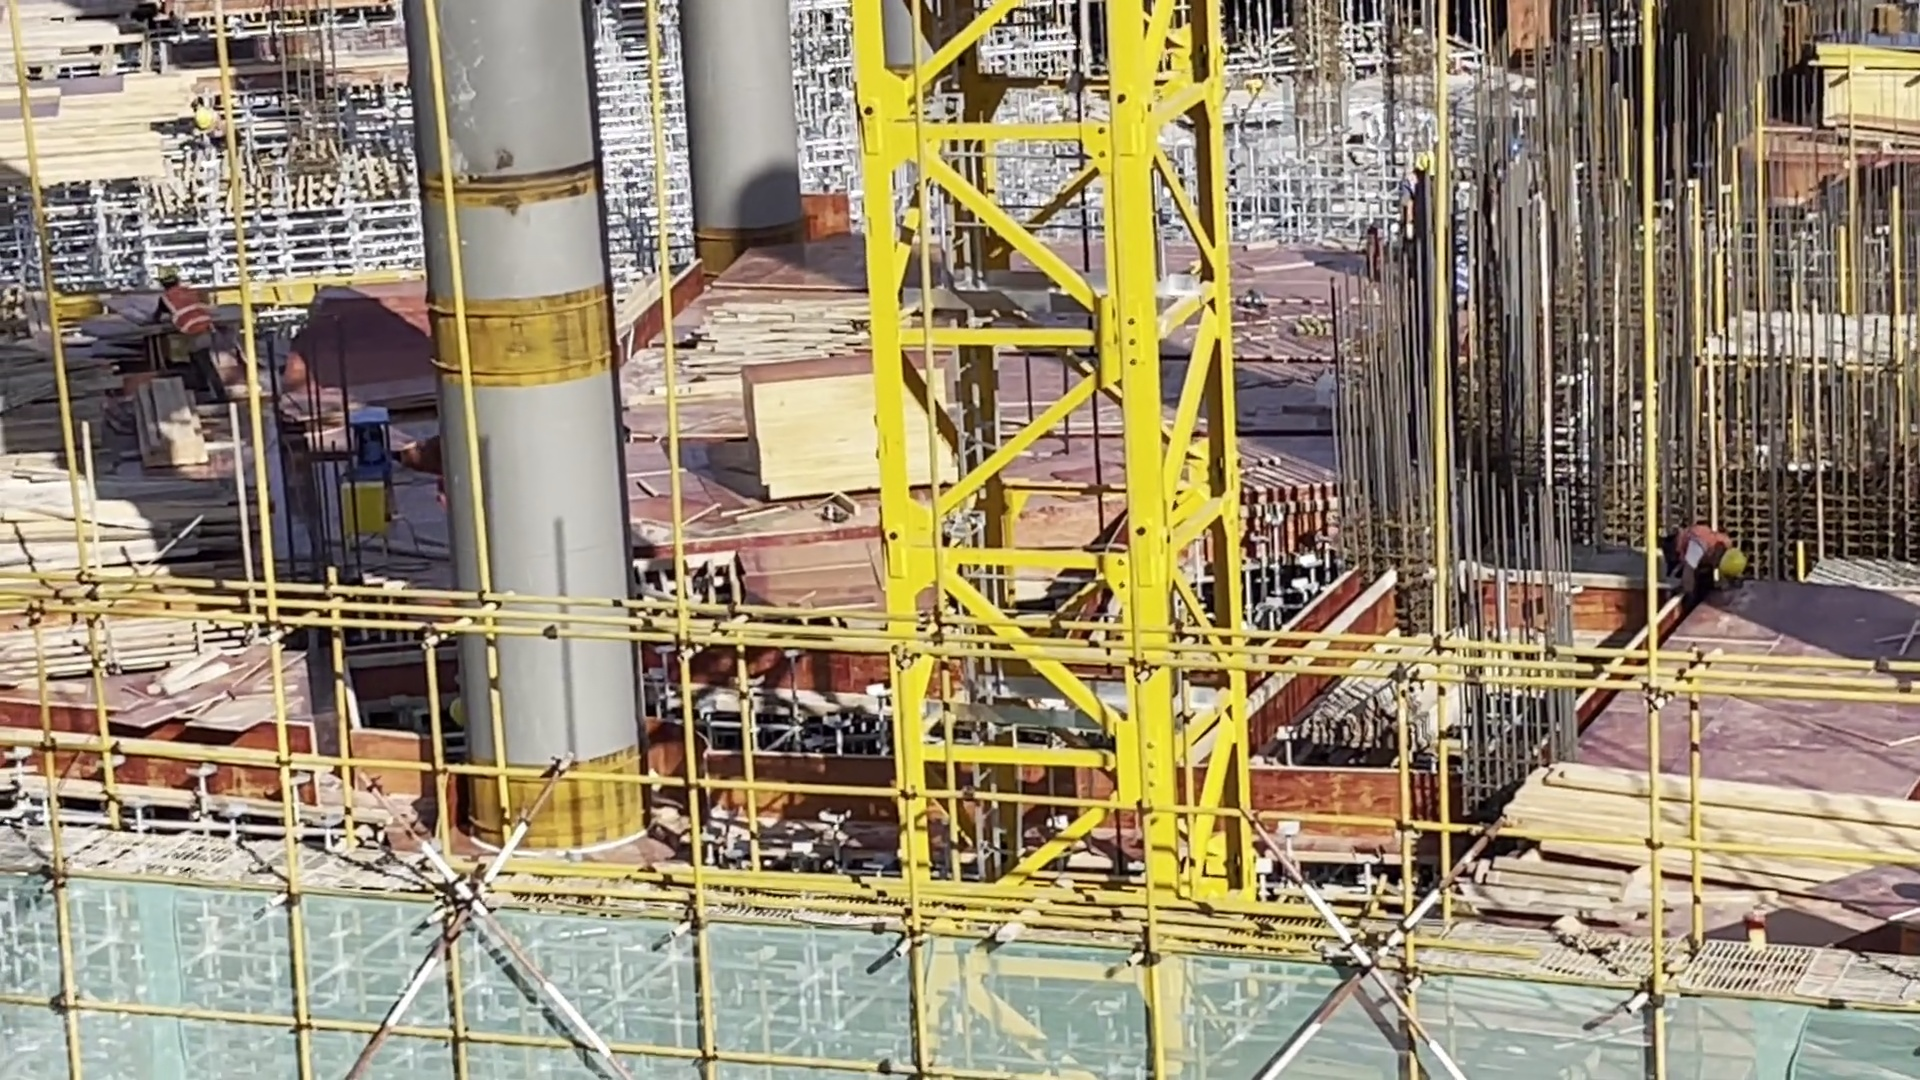helmet: (1716, 543, 1749, 577), (191, 105, 216, 137)
person: (148, 266, 238, 413), (1672, 513, 1759, 616), (188, 90, 237, 174)
vest: (153, 285, 221, 355), (1677, 526, 1736, 584)
